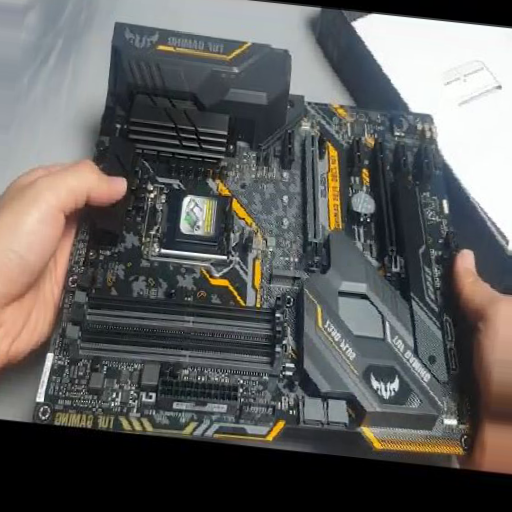CPU: (137, 184, 234, 266)
GPU: (370, 141, 405, 277), (304, 132, 324, 274)
MOTHERBOARD: (41, 23, 473, 451)
RAM: (64, 271, 290, 374)
SSD: (267, 267, 307, 286)
